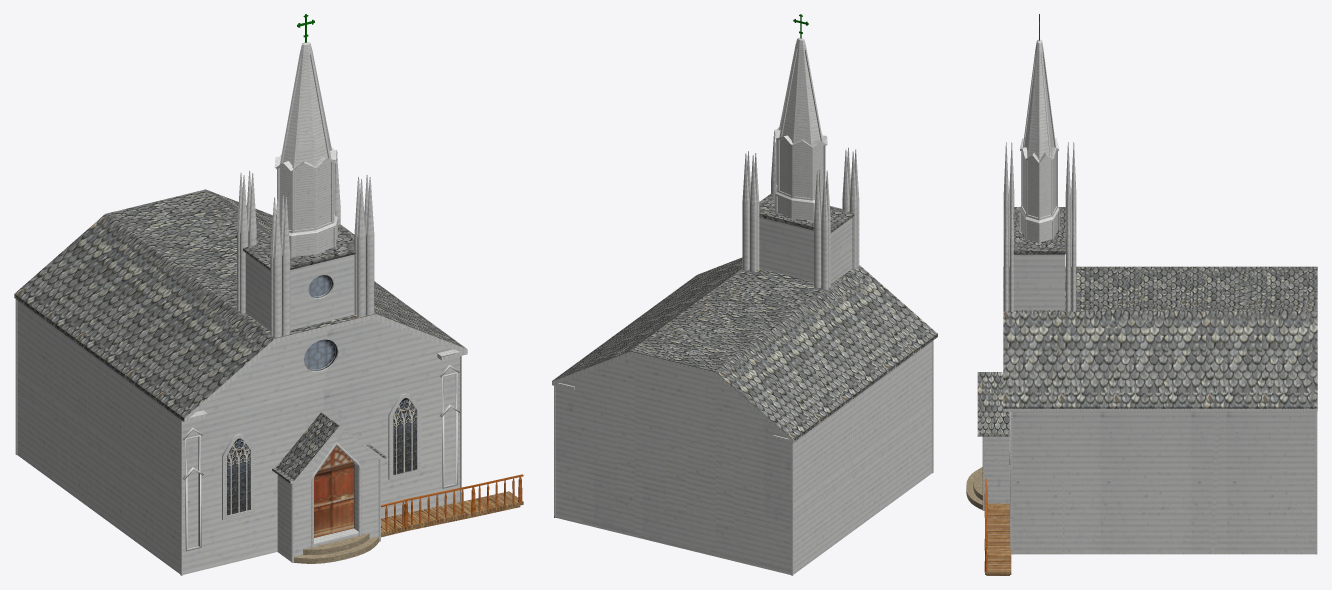
Rendered from church.obj.
3 renders of one model, left to right at view 1: azimuth 30°, elevation 25°; view 2: azimuth 150°, elevation 25°; view 3: azimuth 270°, elevation 25°, orthographic. The views are drawn at different scales.
Visible parts, largest first — view 1: church_Standard_1.003; view 2: church_Standard_1.003; view 3: church_Standard_1.003.
Part boxes in pixels (x1,y1,x2,y2): church_Standard_1.003: (14,14,523,575); church_Standard_1.003: (552,14,937,575); church_Standard_1.003: (966,14,1317,575).
Bounding box in the file's own units: 12 × 18 × 12.
Materials: 1 (1 with a texture image).
